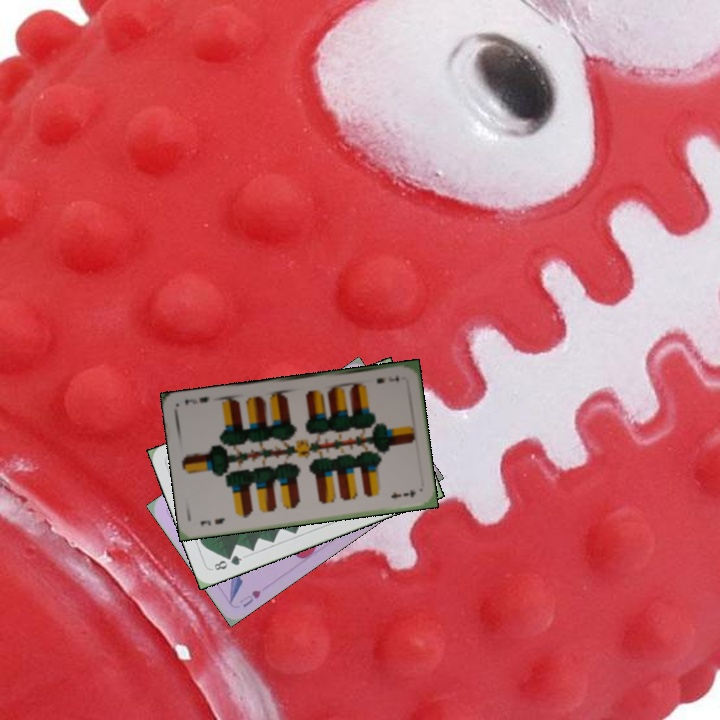E7: (196, 514, 228, 528), (372, 371, 401, 386)
G8: (210, 551, 245, 573)
HU: (236, 586, 264, 610)
